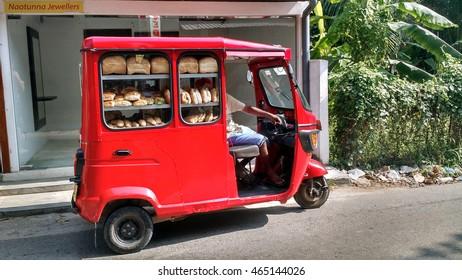threewheel: (69, 36, 331, 254)
